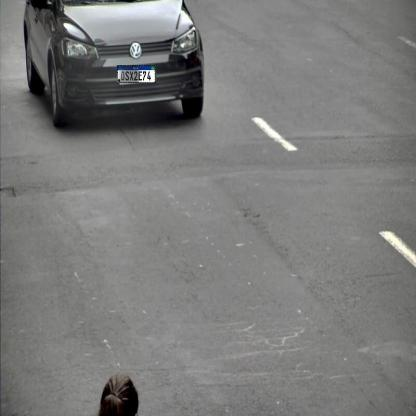PlacaM: (117, 65, 155, 83)
